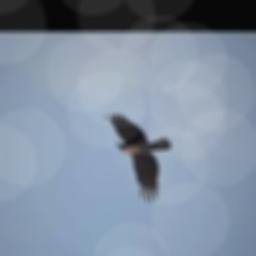Crow: (110, 114, 172, 203)
